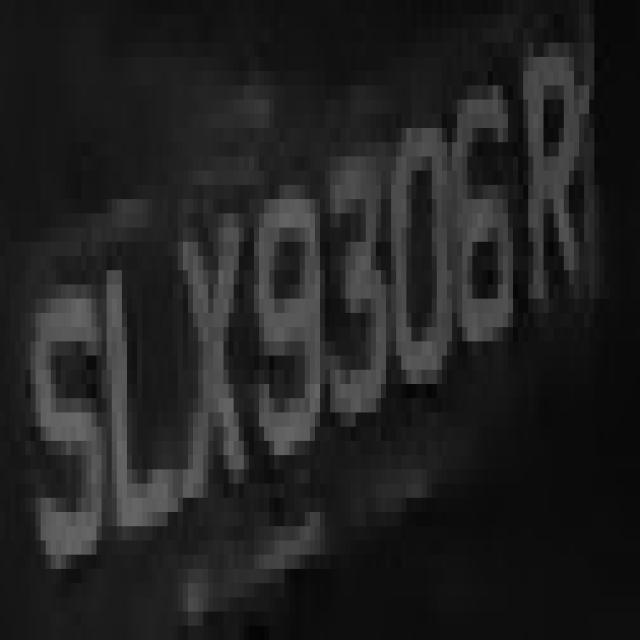0: (366, 71, 452, 413)
3: (320, 100, 391, 483)
6: (432, 29, 503, 412)
9: (244, 114, 320, 498)
L: (101, 242, 183, 540)
R: (503, 57, 594, 355)
S: (26, 228, 101, 598)
X: (163, 185, 259, 498)
